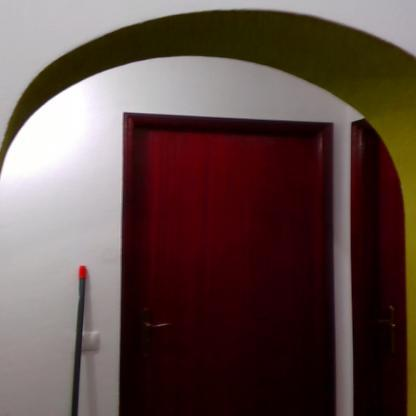door: (136, 126, 324, 416)
lever: (145, 321, 176, 334)
